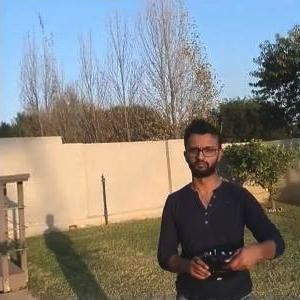follow: (152, 112, 290, 298)
